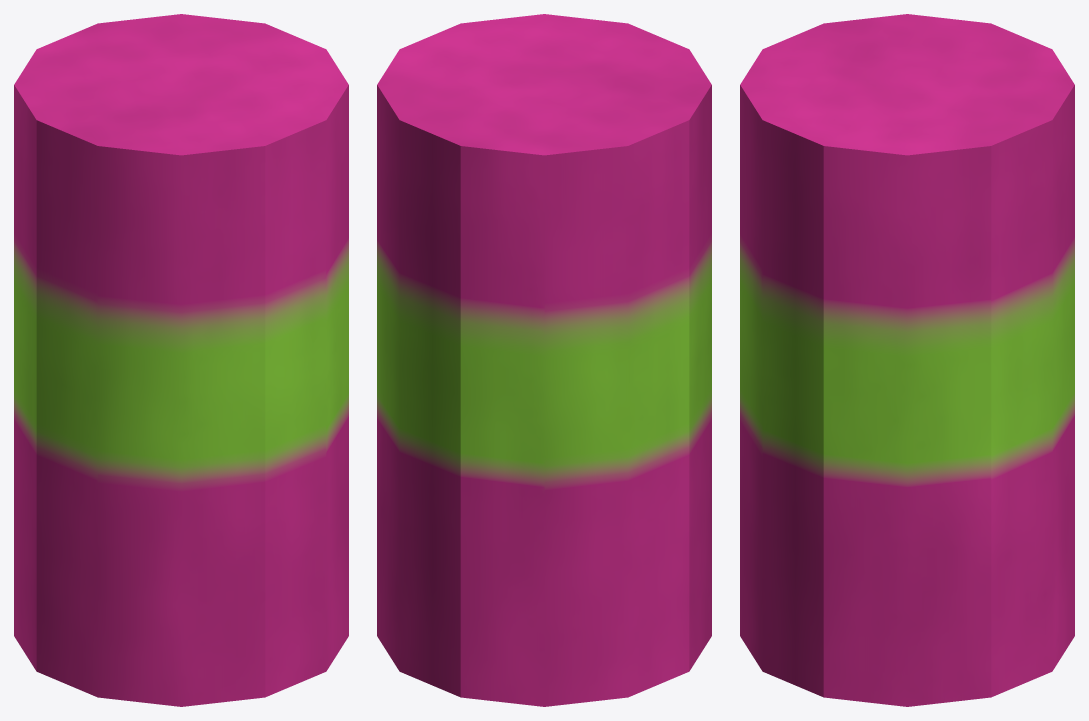
The model's file is Item_EnergyDrink.fbx.
3 renders of one model, left to right at view 1: azimuth 30°, elevation 25°; view 2: azimuth 150°, elevation 25°; view 3: azimuth 270°, elevation 25°, orthographic.
Parts seen in each view (by area): view 1: Item_EnergyDrink; view 2: Item_EnergyDrink; view 3: Item_EnergyDrink.
Part boxes in pixels (left/top/right/bottom): Item_EnergyDrink: left=14, top=14, right=348, bottom=706; Item_EnergyDrink: left=377, top=14, right=711, bottom=706; Item_EnergyDrink: left=740, top=14, right=1074, bottom=706.
Size of the model in its own units: 0.11 by 0.2 by 0.11.
Materials: 1 (1 with a texture image).
